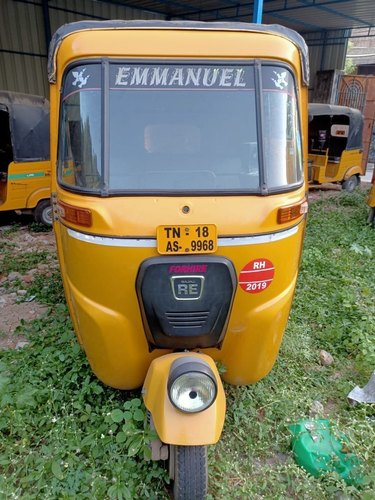auto: (46, 16, 313, 500)
numberplate: (154, 221, 225, 256)
